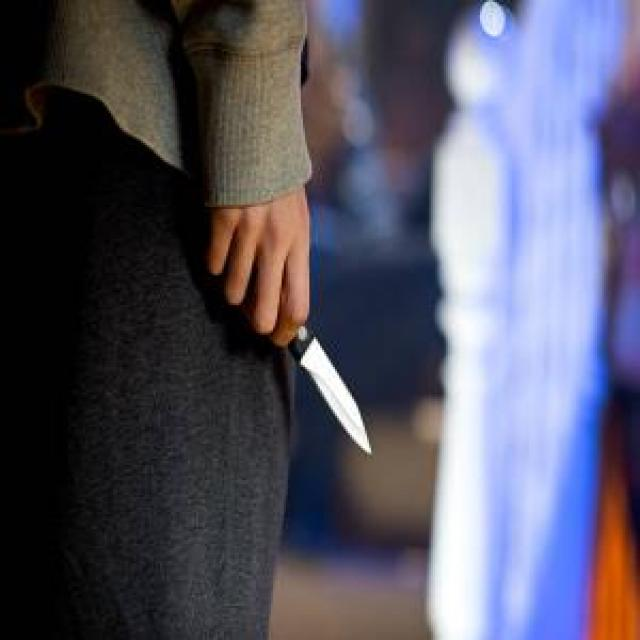knife: (282, 307, 373, 456)
